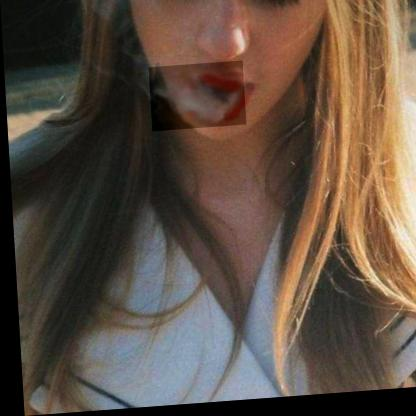smoke: (148, 64, 245, 134)
